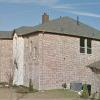Chimney: (37, 7, 52, 25)
